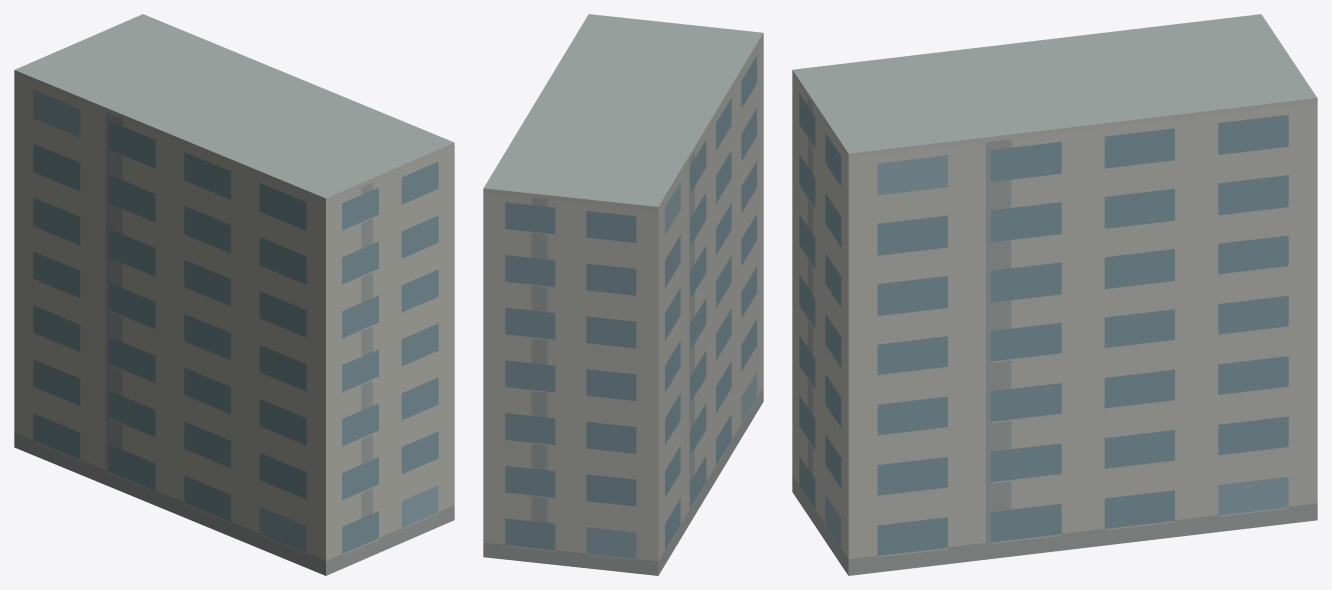
File: survey-upis-32565214.glb
The picture shows the model from 3 angles, left to right: view 1: azimuth 30°, elevation 25°; view 2: azimuth 150°, elevation 25°; view 3: azimuth 270°, elevation 25°; orthographic projection. The views are drawn at different scales.
Visible parts, largest first — view 1: survey-upis-32565214.tmp; view 2: survey-upis-32565214.tmp; view 3: survey-upis-32565214.tmp.
Boxes of the visible parts, x1,y1,x2,y2 form: survey-upis-32565214.tmp: (14,14,454,575); survey-upis-32565214.tmp: (483,14,763,575); survey-upis-32565214.tmp: (792,14,1317,575).
Bounding box in the file's own units: 15.08 × 21.25 × 23.96.
